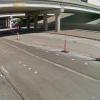Bridge: (1, 0, 97, 29)
